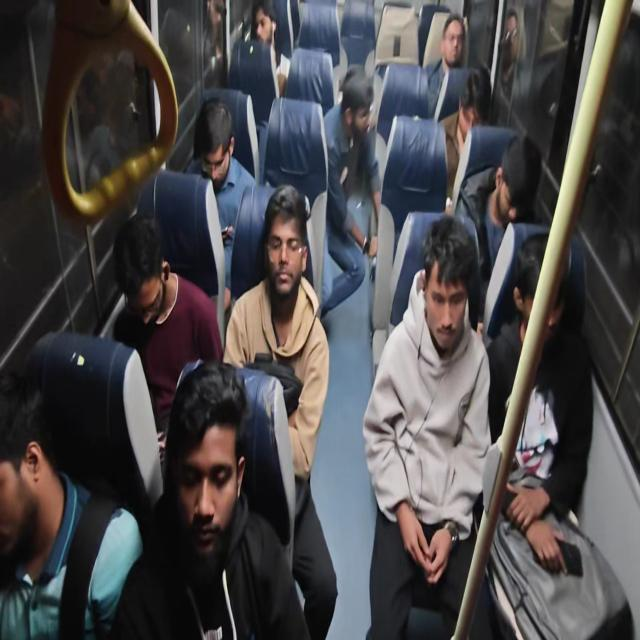person: (161, 352, 239, 572), (0, 371, 52, 580), (418, 215, 478, 368), (114, 203, 172, 341), (509, 224, 570, 346), (263, 177, 313, 306), (496, 121, 550, 226), (193, 86, 240, 197), (334, 68, 392, 146), (454, 65, 495, 147), (442, 8, 473, 77), (249, 4, 279, 56)
